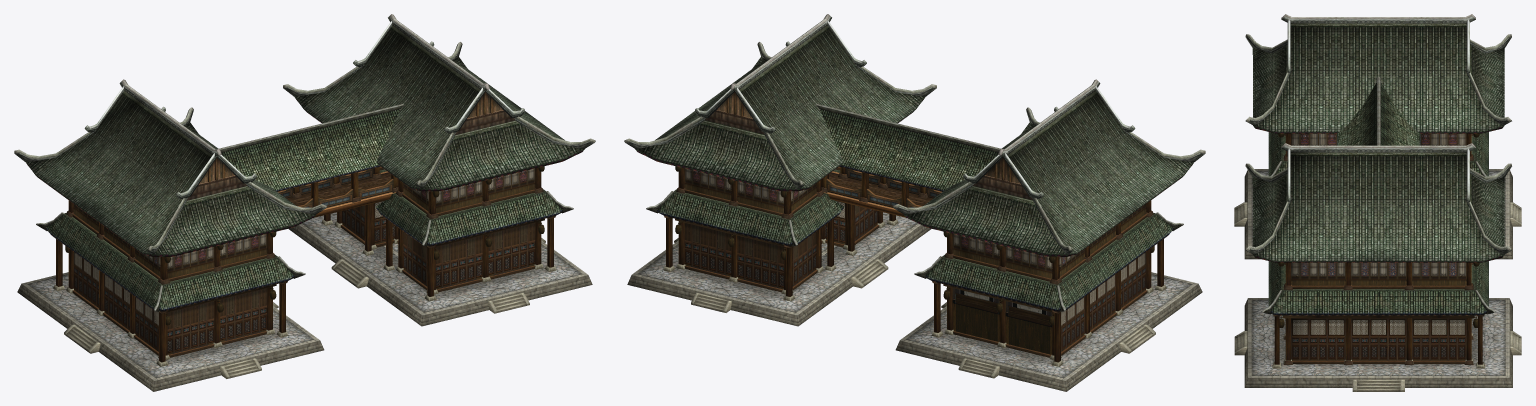
File: c1-009-hotel.fbx
The picture shows the model from 3 angles, left to right: view 1: azimuth 30°, elevation 25°; view 2: azimuth 150°, elevation 25°; view 3: azimuth 270°, elevation 25°; orthographic projection.
Visible parts, largest first — view 1: c1-009-hotel01, c1-009-hotel02, c1-009-hotel03; view 2: c1-009-hotel01, c1-009-hotel03, c1-009-hotel02; view 3: c1-009-hotel01, c1-009-hotel02, c1-009-hotel03.
Part boxes in pixels (bbox=[...]): c1-009-hotel01: bbox=[14, 14, 595, 256]; c1-009-hotel02: bbox=[36, 103, 573, 354]; c1-009-hotel03: bbox=[17, 166, 592, 391]; c1-009-hotel01: bbox=[624, 14, 1205, 256]; c1-009-hotel03: bbox=[627, 166, 1202, 391]; c1-009-hotel02: bbox=[646, 103, 1183, 351]; c1-009-hotel01: bbox=[1245, 14, 1511, 262]; c1-009-hotel02: bbox=[1261, 77, 1495, 360]; c1-009-hotel03: bbox=[1234, 133, 1521, 391].
Size of the model in its own units: 35.89 by 15.6 by 19.9.
